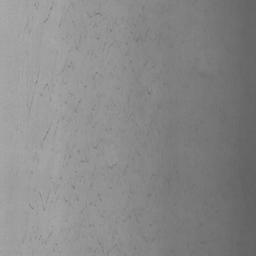Silk spot: (22, 0, 173, 256)
